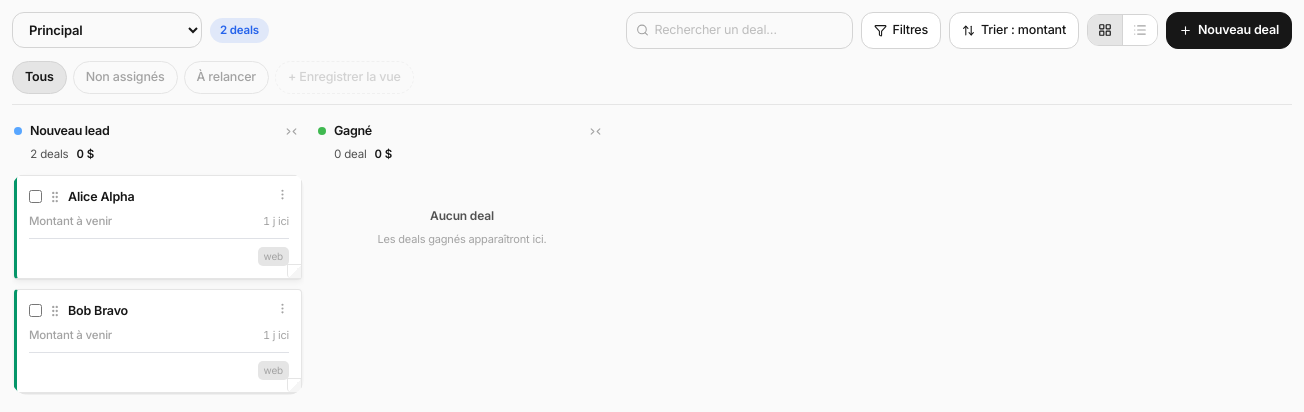
vue Liste — colonnes de champs › affiche la colonne d’un champ choisi, avec sa valeur formatée
The width and height of the screenshot is (1304, 412).
Click the button named "Vue liste".
click(1140, 30)  # box [1122,15,1157,45]
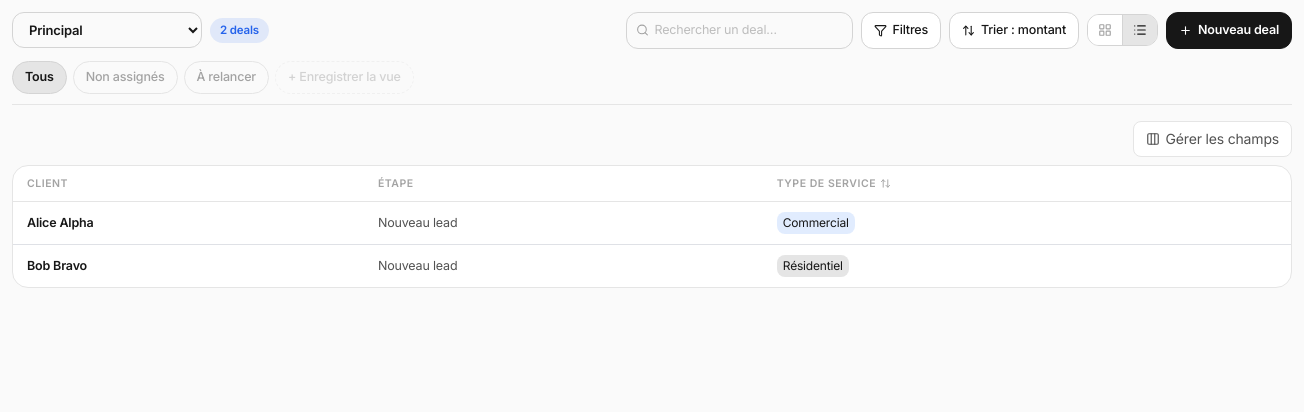
Expected: the button "Gérer les champs" is shown, [1132,120,1292,156]
